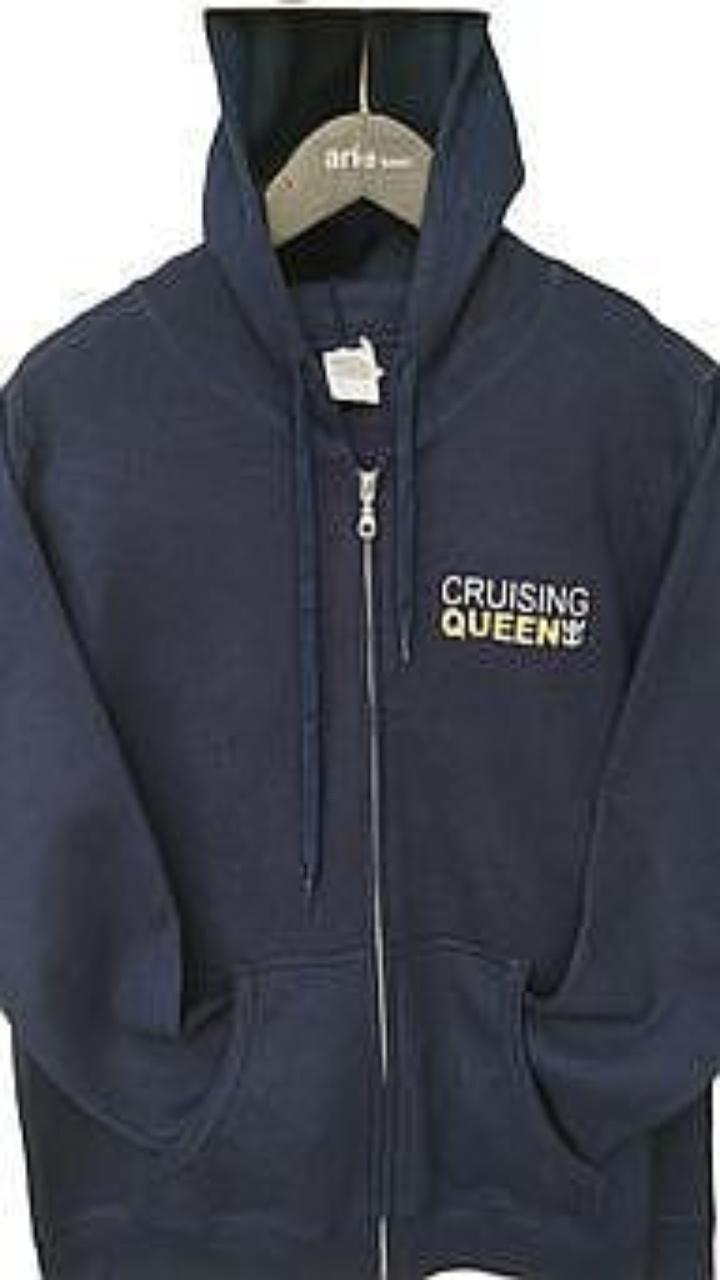Hoodie: (0, 10, 719, 1279)
